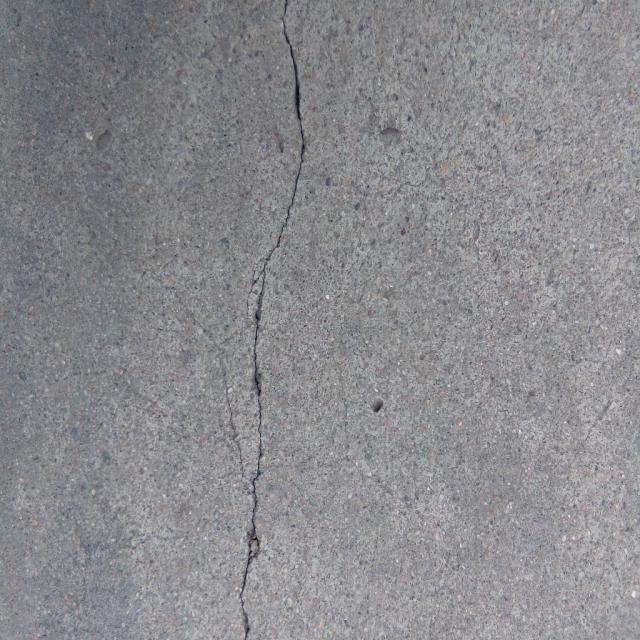cracks: (211, 16, 334, 629)
